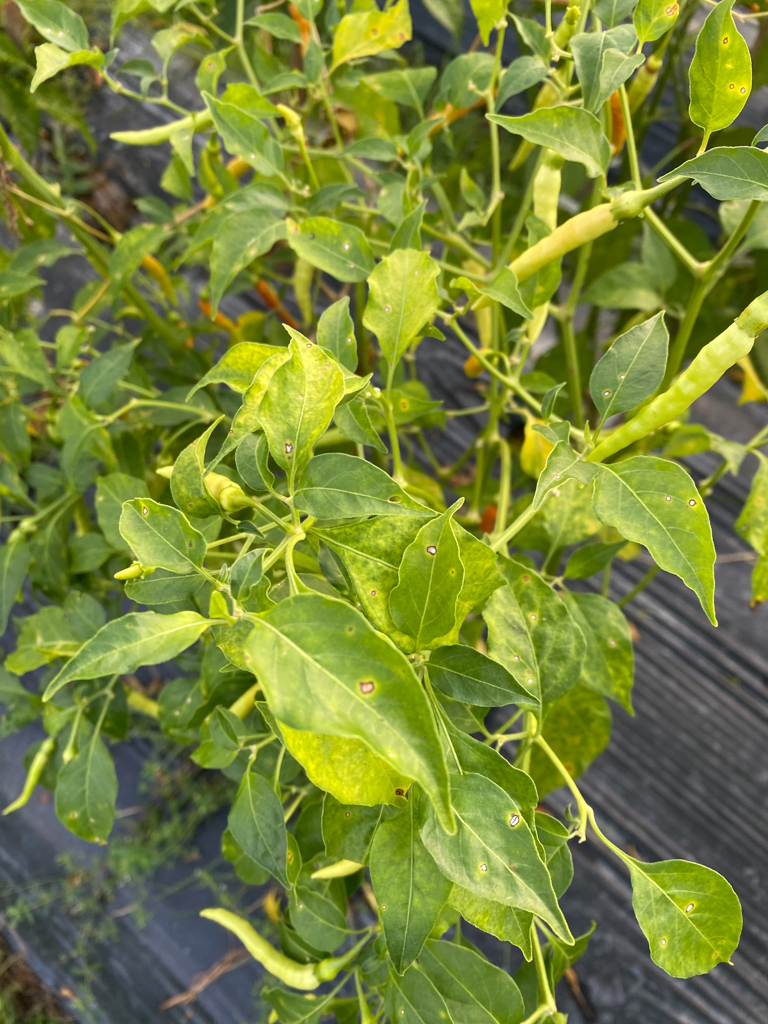frog-eye leafspot: (510, 646, 540, 688), (337, 237, 360, 275), (369, 22, 407, 44), (663, 490, 699, 512), (353, 677, 383, 700), (500, 809, 524, 835), (474, 855, 498, 879), (652, 928, 673, 953), (725, 76, 748, 98), (525, 605, 546, 629), (279, 436, 297, 461), (678, 896, 698, 918), (596, 633, 618, 652), (182, 535, 200, 557), (423, 541, 440, 559), (388, 782, 405, 799), (516, 571, 532, 586), (599, 386, 615, 401), (663, 1, 678, 17), (396, 396, 410, 413), (718, 31, 731, 49), (284, 845, 294, 868), (340, 807, 354, 823), (379, 301, 395, 315), (338, 332, 354, 346), (65, 809, 82, 821), (444, 563, 456, 579), (378, 900, 390, 916), (367, 586, 380, 600), (342, 623, 356, 636), (437, 1008, 451, 1020), (139, 505, 151, 518), (615, 371, 627, 382), (205, 60, 216, 72), (185, 499, 196, 510), (92, 835, 103, 845)
